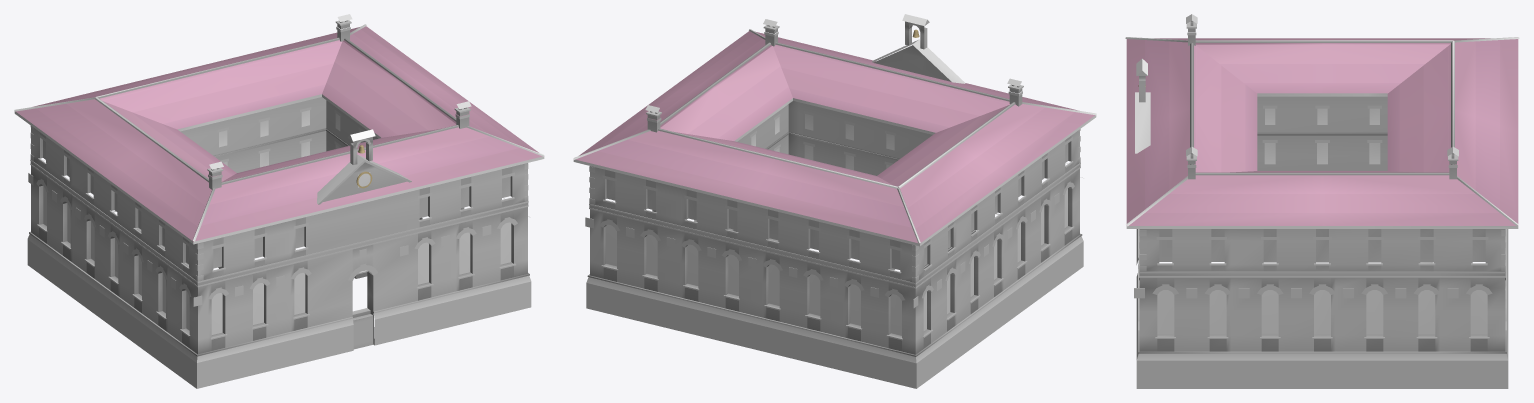
The model's file is mc_shell.glb.
3 renders of one model, left to right at view 1: azimuth 30°, elevation 25°; view 2: azimuth 150°, elevation 25°; view 3: azimuth 270°, elevation 25°, orthographic. The views are drawn at different scales.
Parts seen in each view (by area): view 1: mc_shell_MC_Stone, mc_shell_MC_Roof, mc_shell_MC_Glass, mc_shell_MC_Timber; view 2: mc_shell_MC_Stone, mc_shell_MC_Roof, mc_shell_MC_Glass, mc_shell_MC_Timber; view 3: mc_shell_MC_Stone, mc_shell_MC_Roof, mc_shell_MC_Glass, mc_shell_MC_Timber.
Part boxes in pixels (bbox=[...]): mc_shell_MC_Stone: bbox=[27, 14, 531, 388]; mc_shell_MC_Roof: bbox=[14, 24, 544, 241]; mc_shell_MC_Glass: bbox=[43, 110, 511, 334]; mc_shell_MC_Timber: bbox=[14, 94, 544, 274]; mc_shell_MC_Stone: bbox=[585, 19, 1083, 388]; mc_shell_MC_Roof: bbox=[573, 14, 1096, 243]; mc_shell_MC_Glass: bbox=[606, 114, 1068, 335]; mc_shell_MC_Timber: bbox=[573, 98, 1096, 246]; mc_shell_MC_Stone: bbox=[1134, 14, 1508, 388]; mc_shell_MC_Roof: bbox=[1125, 37, 1519, 226]; mc_shell_MC_Glass: bbox=[1157, 108, 1487, 334]; mc_shell_MC_Timber: bbox=[1126, 93, 1518, 228].
Size of the model in its own units: 34.17 by 19.85 by 30.17.
